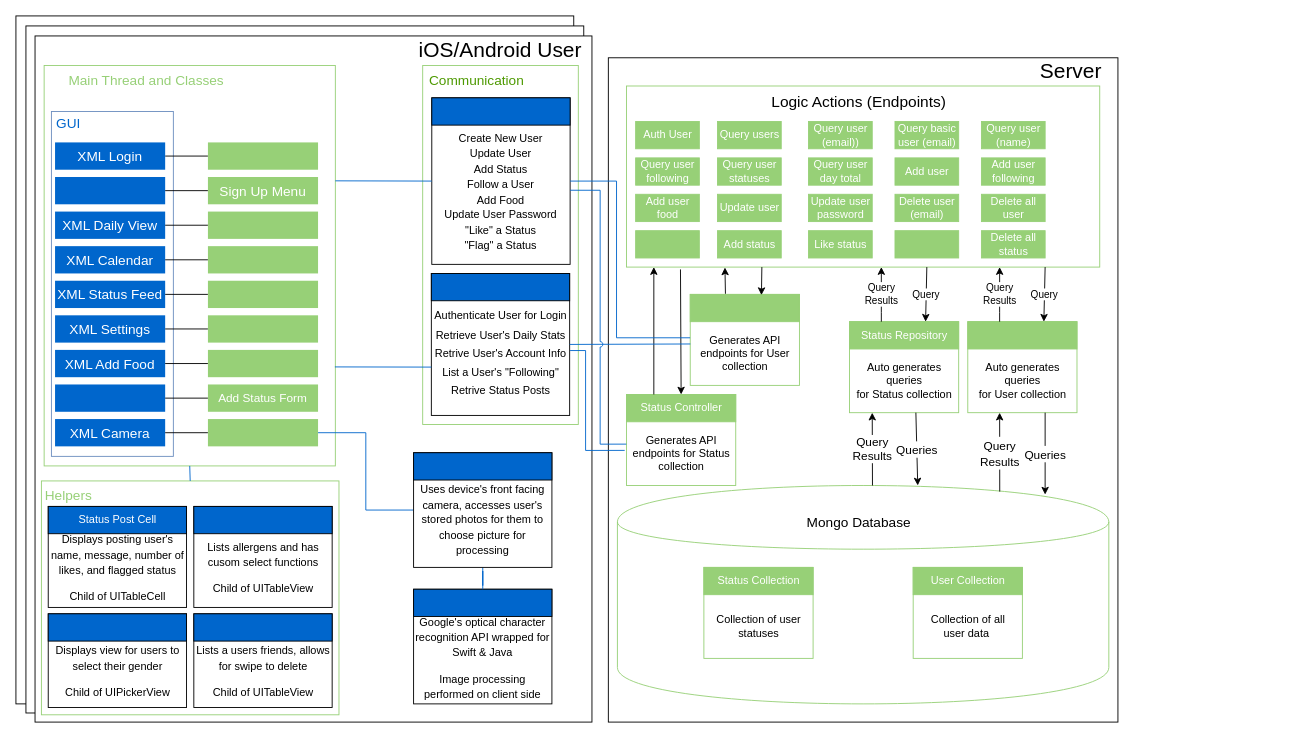
The diagram is 1296 pixels wide and 738 high, and some of its shapes have lost their labels. The centre of each missing label's shape, as x and y in pixels:
Add Food Form: point 262,363
Allergen Selector: point 262,520
Camera Interface: point 262,432
Daily Page: point 262,224
Flag status: point 926,244
Friends List: point 262,627
Gender Selector: point 117,627
JSON Requests: point 500,111
Login Menu: point 262,155
Query status: point 667,244
Selectable Calendar: point 262,259
Settings List: point 262,328
Status Table View: point 262,294
Tesseract OCR: point 482,602
UIImagePickerController: point 482,466
URL Parameter Requests: point 500,287
User Controller: point 744,307
User Repository: point 1022,335
XML Add Status: point 110,397
XML Sign Up: point 110,190
